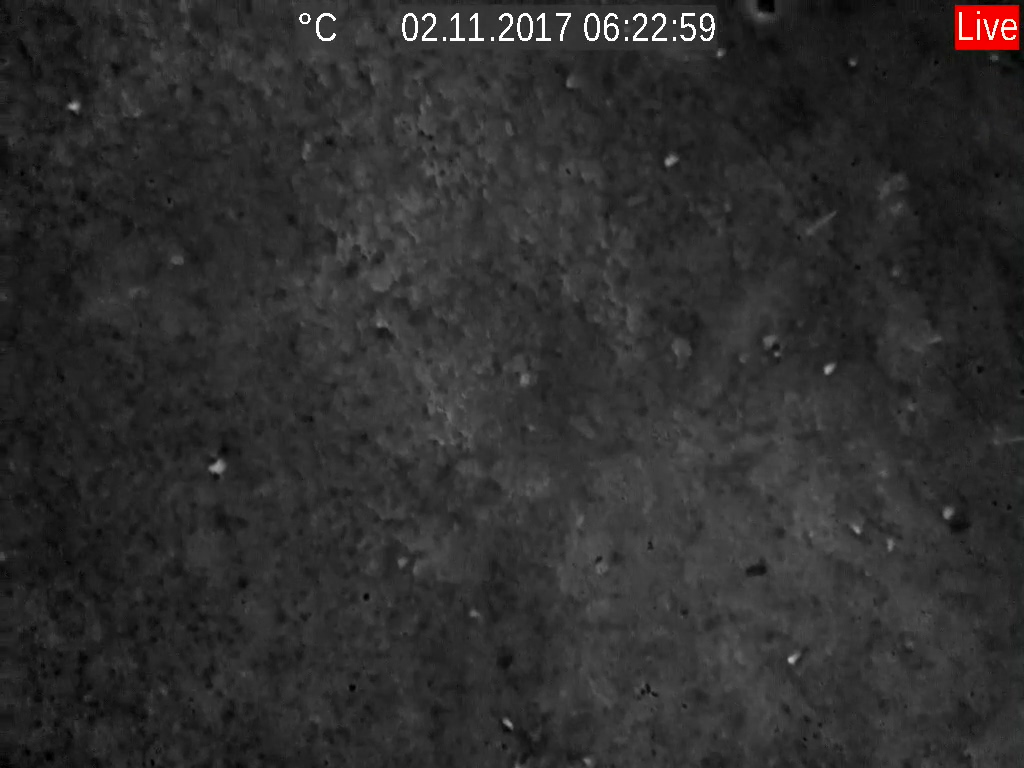warren: (797, 203, 841, 240), (200, 454, 234, 478), (783, 644, 805, 668), (496, 709, 517, 731), (845, 514, 868, 534), (821, 357, 840, 378), (883, 534, 899, 551)
